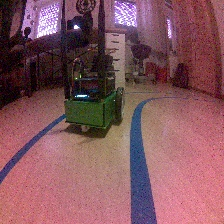rob: (64, 51, 125, 133)
